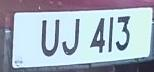1: (106, 11, 117, 58)
3: (116, 11, 135, 57)
4: (89, 11, 108, 60)
J: (62, 15, 86, 58)
U: (38, 16, 62, 60)
